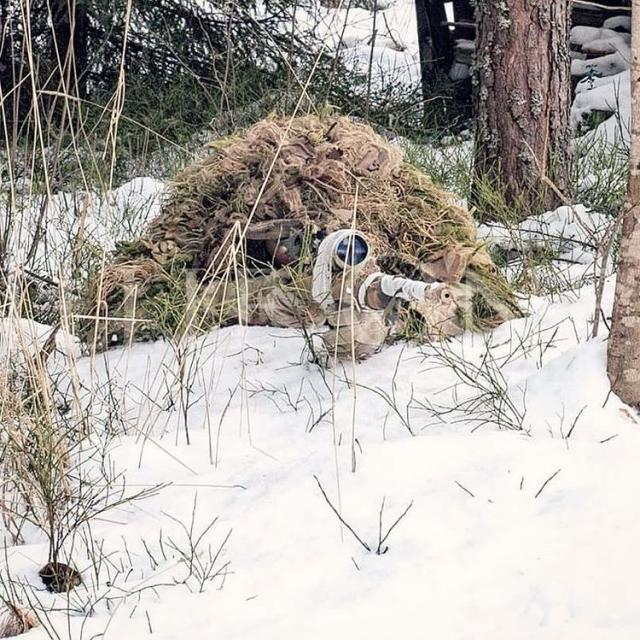Camouflage: (83, 108, 528, 361)
